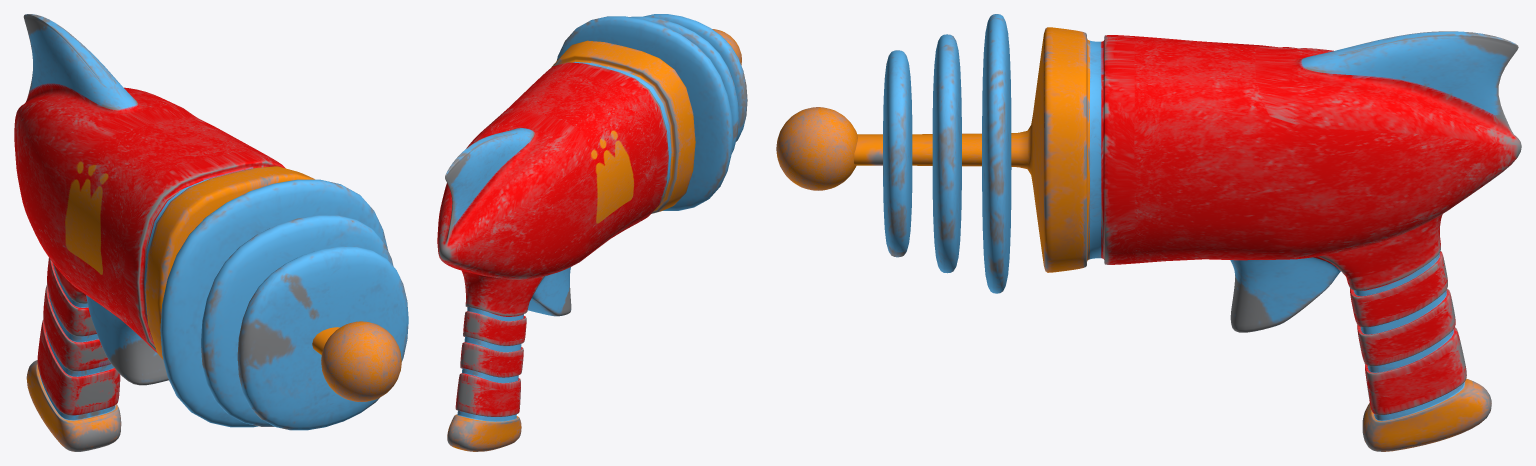
Rendered from pistola.glb.
3 views of the same model, side by side, from view 1: azimuth 30°, elevation 25°; view 2: azimuth 150°, elevation 25°; view 3: azimuth 270°, elevation 25° (orthographic). The views are drawn at different scales.
Visible parts, largest first — view 1: Cube.002, Plane.003, Plane.005, Plane.004, Sphere.001; view 2: Cube.002, Plane.005, Plane.003, Plane.004; view 3: Cube.002, Plane.005, Plane.004, Plane.003, Sphere.001.
Part boxes in pixels (x1=…): Cube.002: x1=14, y1=14, x2=339, y2=451; Plane.003: x1=237, y1=246, x2=408, y2=430; Plane.005: x1=160, y1=179, x2=388, y2=427; Plane.004: x1=201, y1=215, x2=393, y2=426; Sphere.001: x1=321, y1=321, x2=401, y2=401; Cube.002: x1=437, y1=40, x2=695, y2=451; Plane.005: x1=556, y1=16, x2=732, y2=210; Plane.003: x1=643, y1=14, x2=747, y2=141; Plane.004: x1=630, y1=16, x2=738, y2=152; Cube.002: x1=854, y1=27, x2=1521, y2=451; Plane.005: x1=982, y1=14, x2=1011, y2=293; Plane.004: x1=932, y1=34, x2=961, y2=273; Plane.003: x1=883, y1=50, x2=912, y2=257; Sphere.001: x1=776, y1=107, x2=857, y2=190.
Size of the model in its own units: 1.92 by 3.22 by 5.27.
2 materials, 2 textured.
